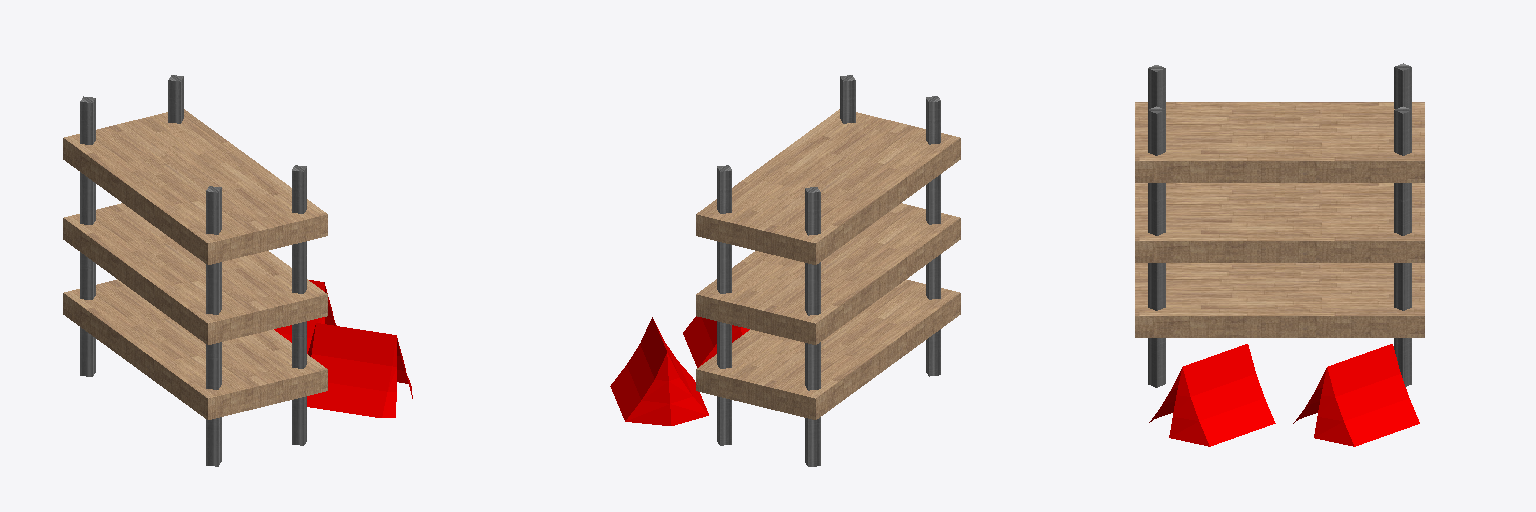
3 renders of one model, left to right at view 1: azimuth 30°, elevation 25°; view 2: azimuth 150°, elevation 25°; view 3: azimuth 270°, elevation 25°, orthographic.
Size of the model in its own units: 1.84 by 2 by 1.91.
Materials: 3 (2 with a texture image).